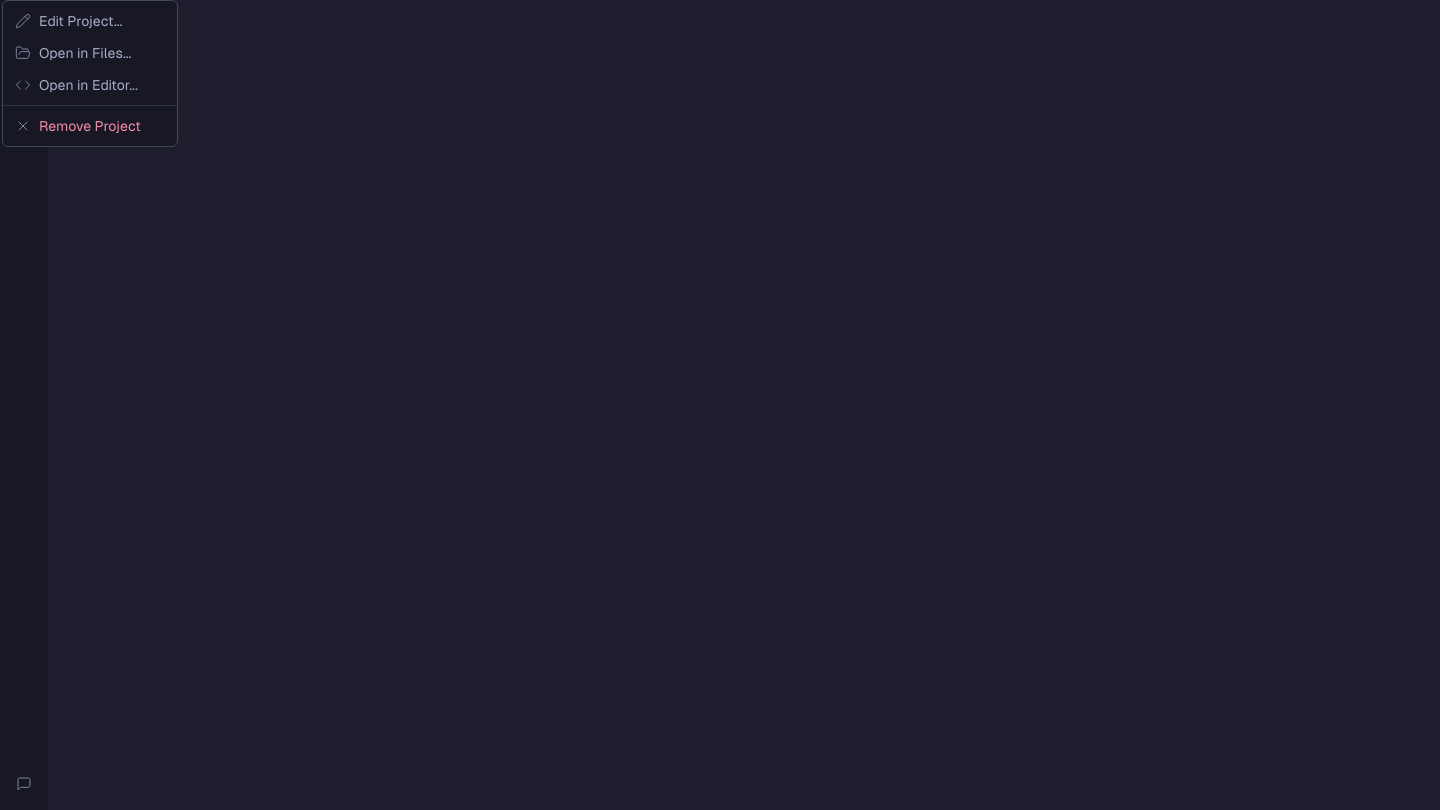
ProjectSidebar › opens edit dialog when Edit Project is clicked
This screenshot has width=1440, height=810.
Click the menu item "Edit Project..." at point(69, 21), box [15, 13, 122, 29]
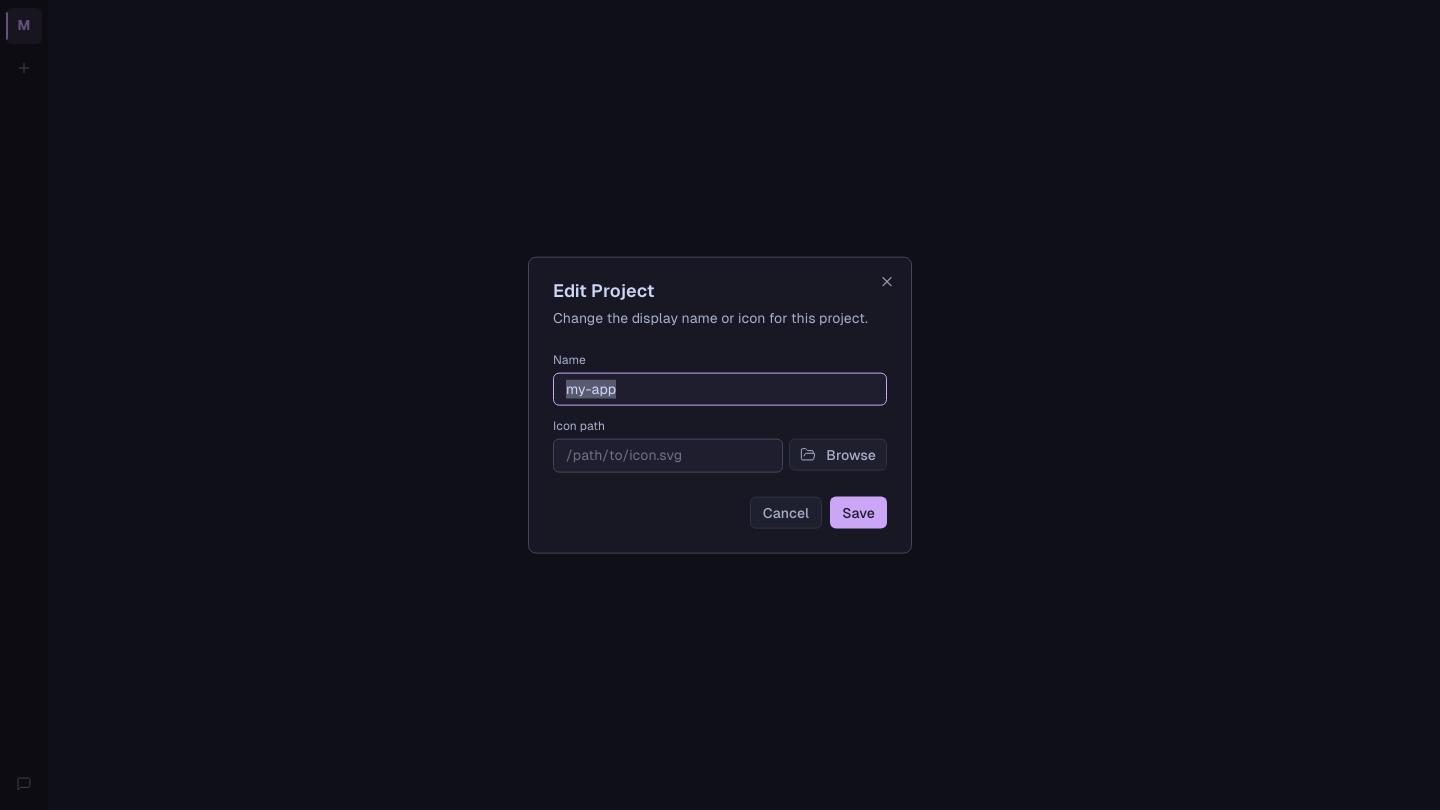
Expected: the heading "Edit Project" is shown, [553, 280, 654, 301]
Now the field showing "my-app" is shown, box [553, 372, 887, 406]
